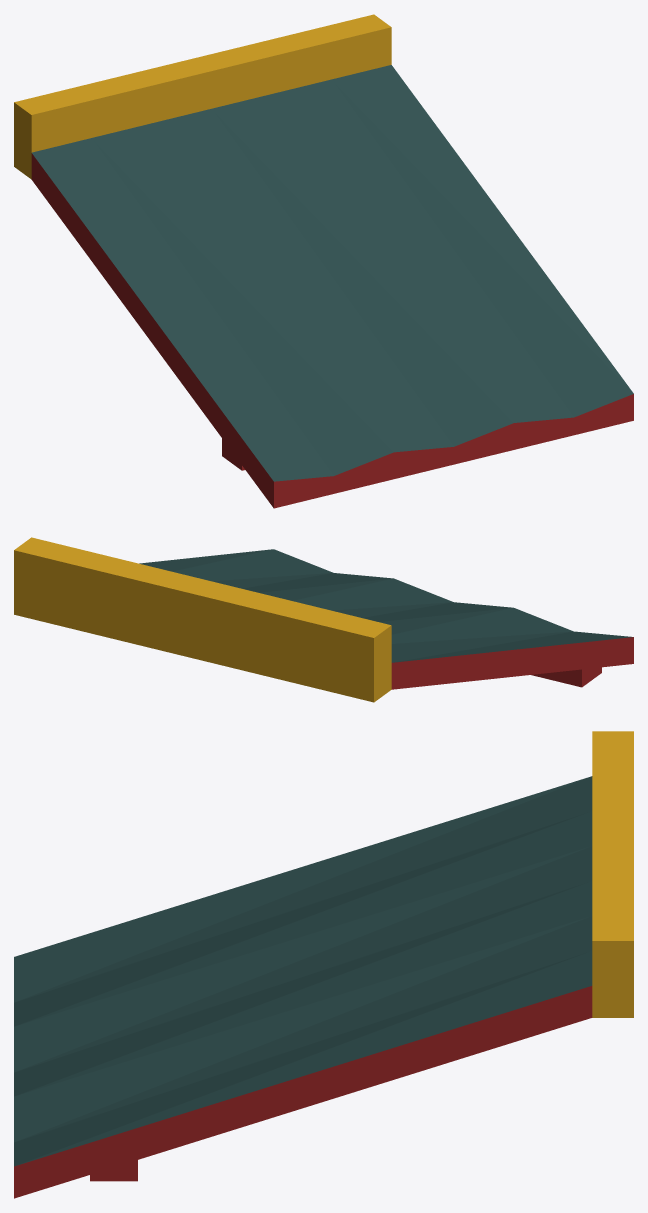
File: Asian_Prop_Building_Modular_Roof_Edge_02.FBX
3 views of the same model, one above another, from view 1: azimuth 30°, elevation 25°; view 2: azimuth 150°, elevation 25°; view 3: azimuth 270°, elevation 25° (orthographic). The views are drawn at different scales.
Visible parts, largest first — view 1: Asian_Prop_Building_Modular_Roof_Edge_02; view 2: Asian_Prop_Building_Modular_Roof_Edge_02; view 3: Asian_Prop_Building_Modular_Roof_Edge_02.
Boxes of the visible parts, x1,y1,x2,y2 form: Asian_Prop_Building_Modular_Roof_Edge_02: [14, 14, 633, 508]; Asian_Prop_Building_Modular_Roof_Edge_02: [14, 537, 633, 702]; Asian_Prop_Building_Modular_Roof_Edge_02: [14, 731, 633, 1198].
Size of the model in its own units: 5167 by 2963 by 6459.
